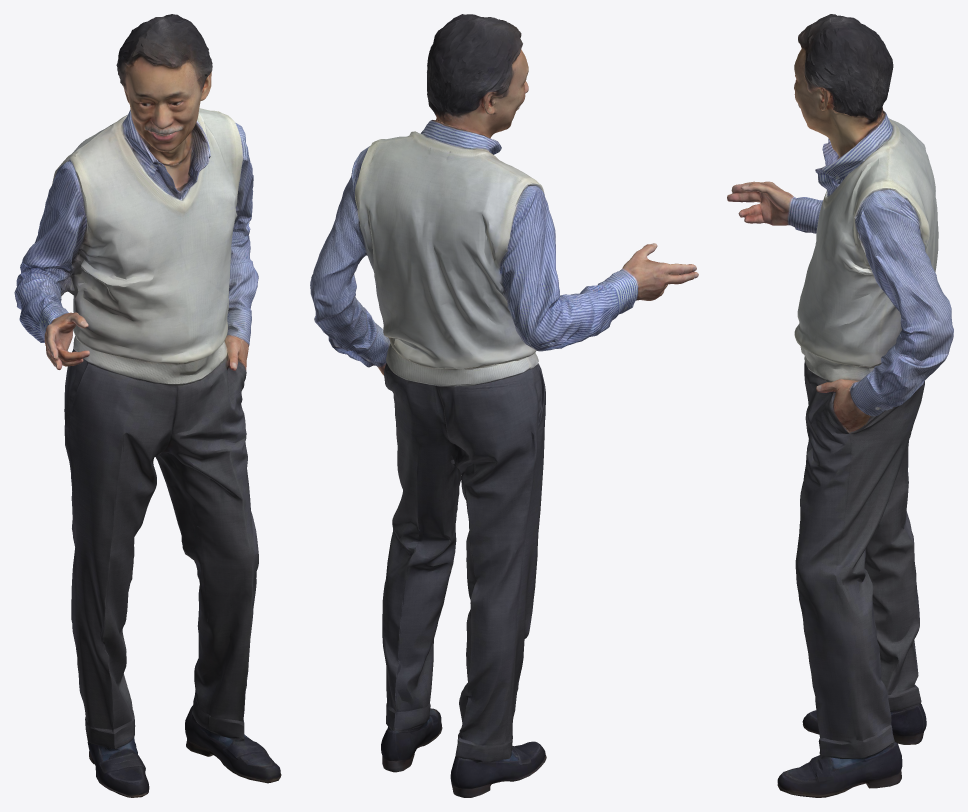
The model's file is person_ken.dae.
3 renders of one model, left to right at view 1: azimuth 30°, elevation 25°; view 2: azimuth 150°, elevation 25°; view 3: azimuth 270°, elevation 25°, orthographic. The views are drawn at different scales.
Visible parts, largest first — view 1: 049_Ken_01; view 2: 049_Ken_01; view 3: 049_Ken_01.
Boxes of the visible parts, x1,y1,x2,y2 form: 049_Ken_01: (14, 14, 281, 797); 049_Ken_01: (310, 14, 698, 797); 049_Ken_01: (727, 14, 953, 797).
Bounding box in the file's own units: 0.7013 × 0.4914 × 1.75.
Materials: 1 (1 with a texture image).
